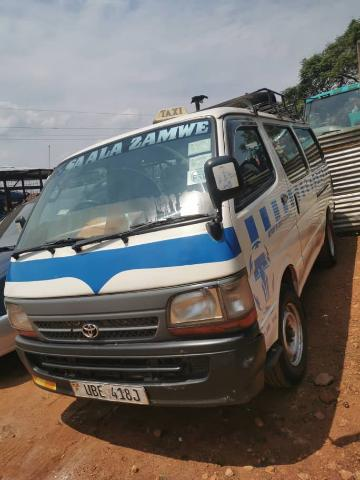van: (3, 107, 337, 409)
